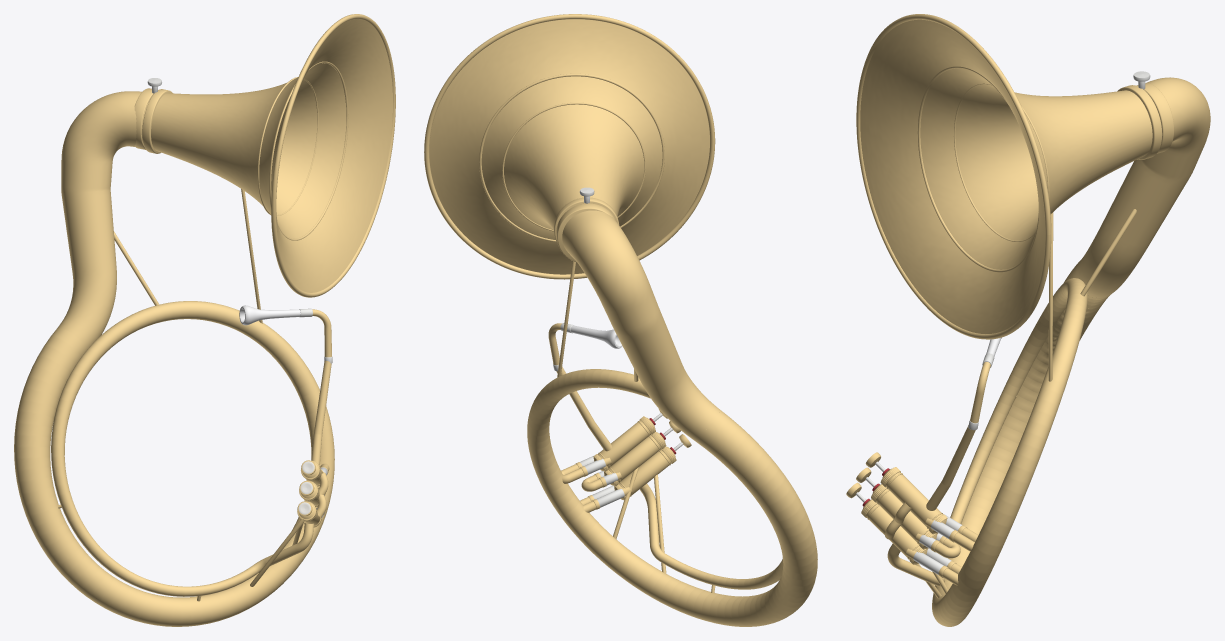
Rendered from sousaphone.glb.
The picture shows the model from 3 angles, left to right: view 1: azimuth 30°, elevation 25°; view 2: azimuth 150°, elevation 25°; view 3: azimuth 270°, elevation 25°; orthographic projection. The views are drawn at different scales.
Visible parts, largest first — view 1: Body; view 2: Body; view 3: Body.
Boxes of the visible parts, <box> form: Body: <box>14,14,395,626</box>; Body: <box>424,14,817,626</box>; Body: <box>856,14,1210,626</box>.
Size of the model in its own units: 1.01 by 1.45 by 0.7255.
